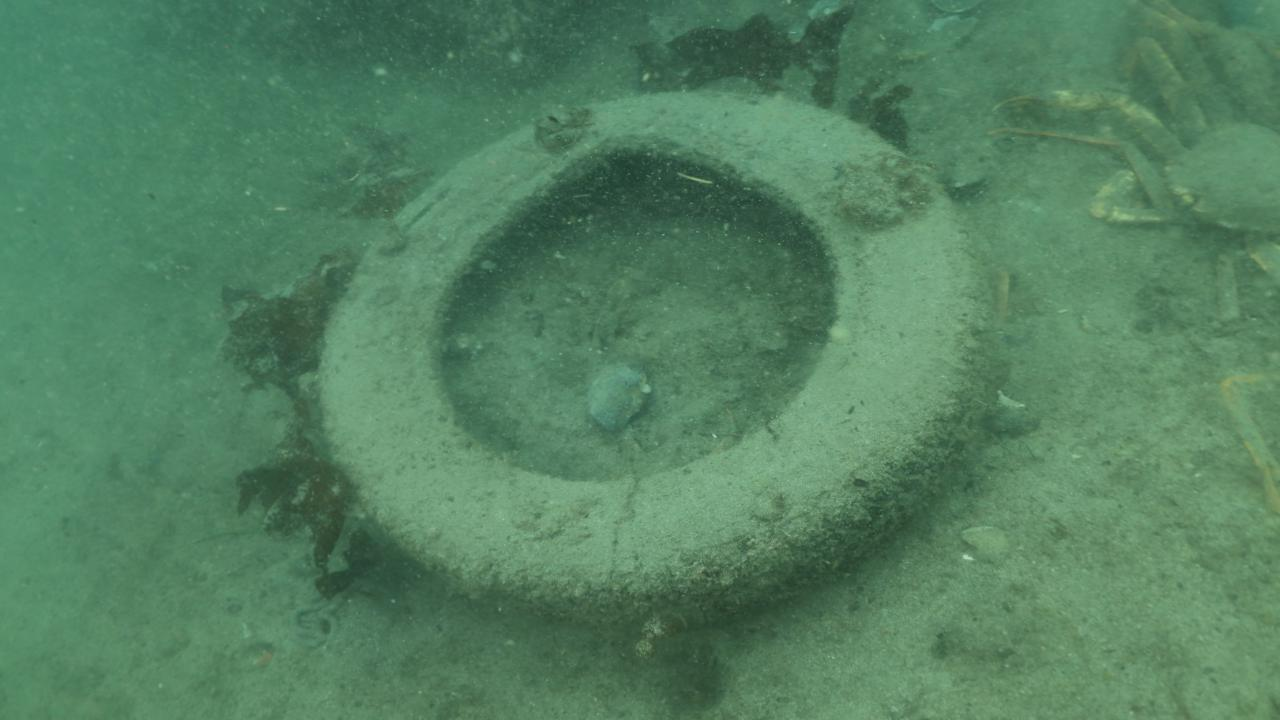tire: (316, 89, 1002, 633)
